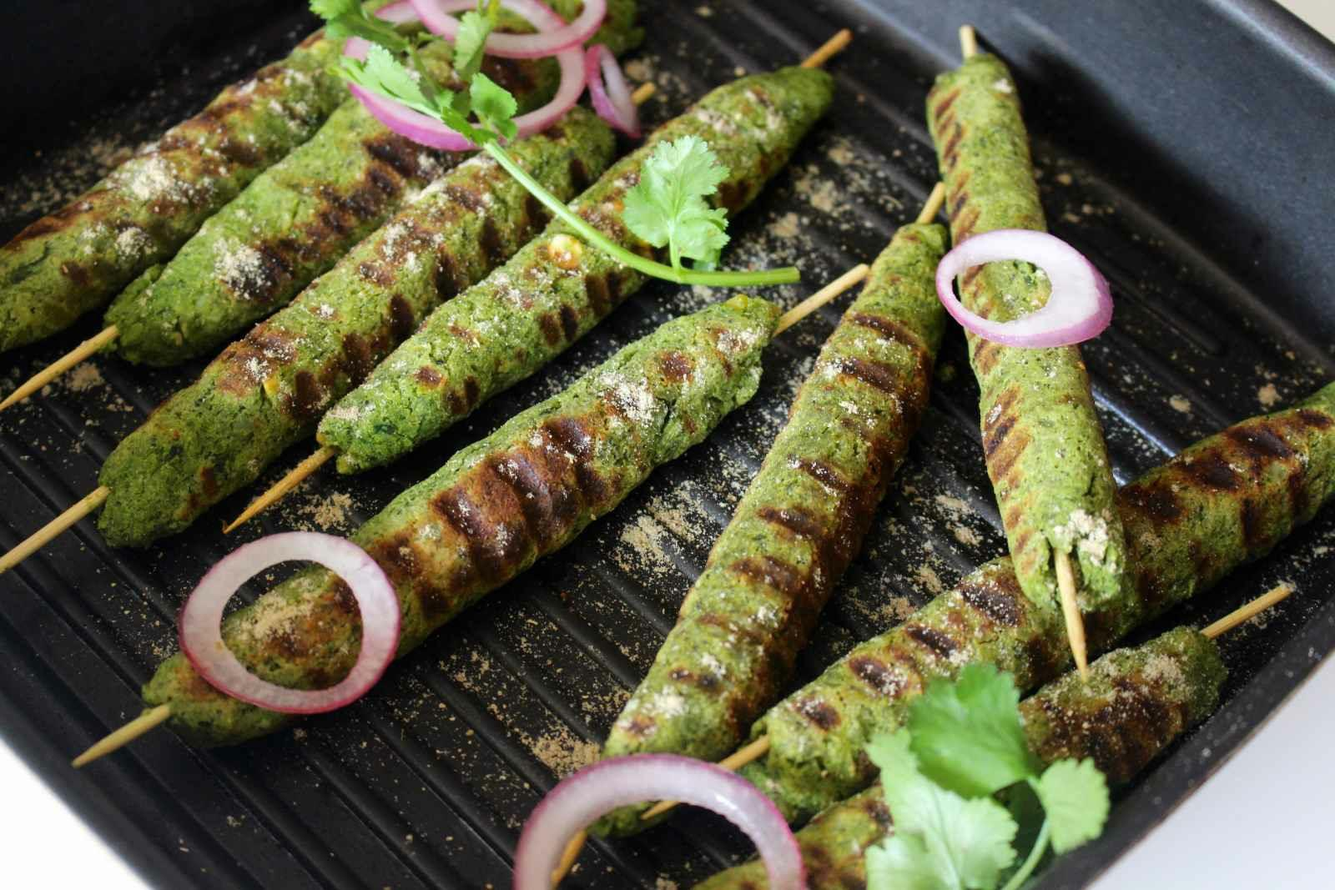Kebab: (147, 296, 778, 743), (754, 385, 1335, 809), (97, 105, 616, 551), (319, 65, 831, 474), (591, 225, 949, 809), (109, 0, 639, 366), (687, 627, 1226, 890), (924, 54, 1148, 605), (0, 27, 376, 347)
